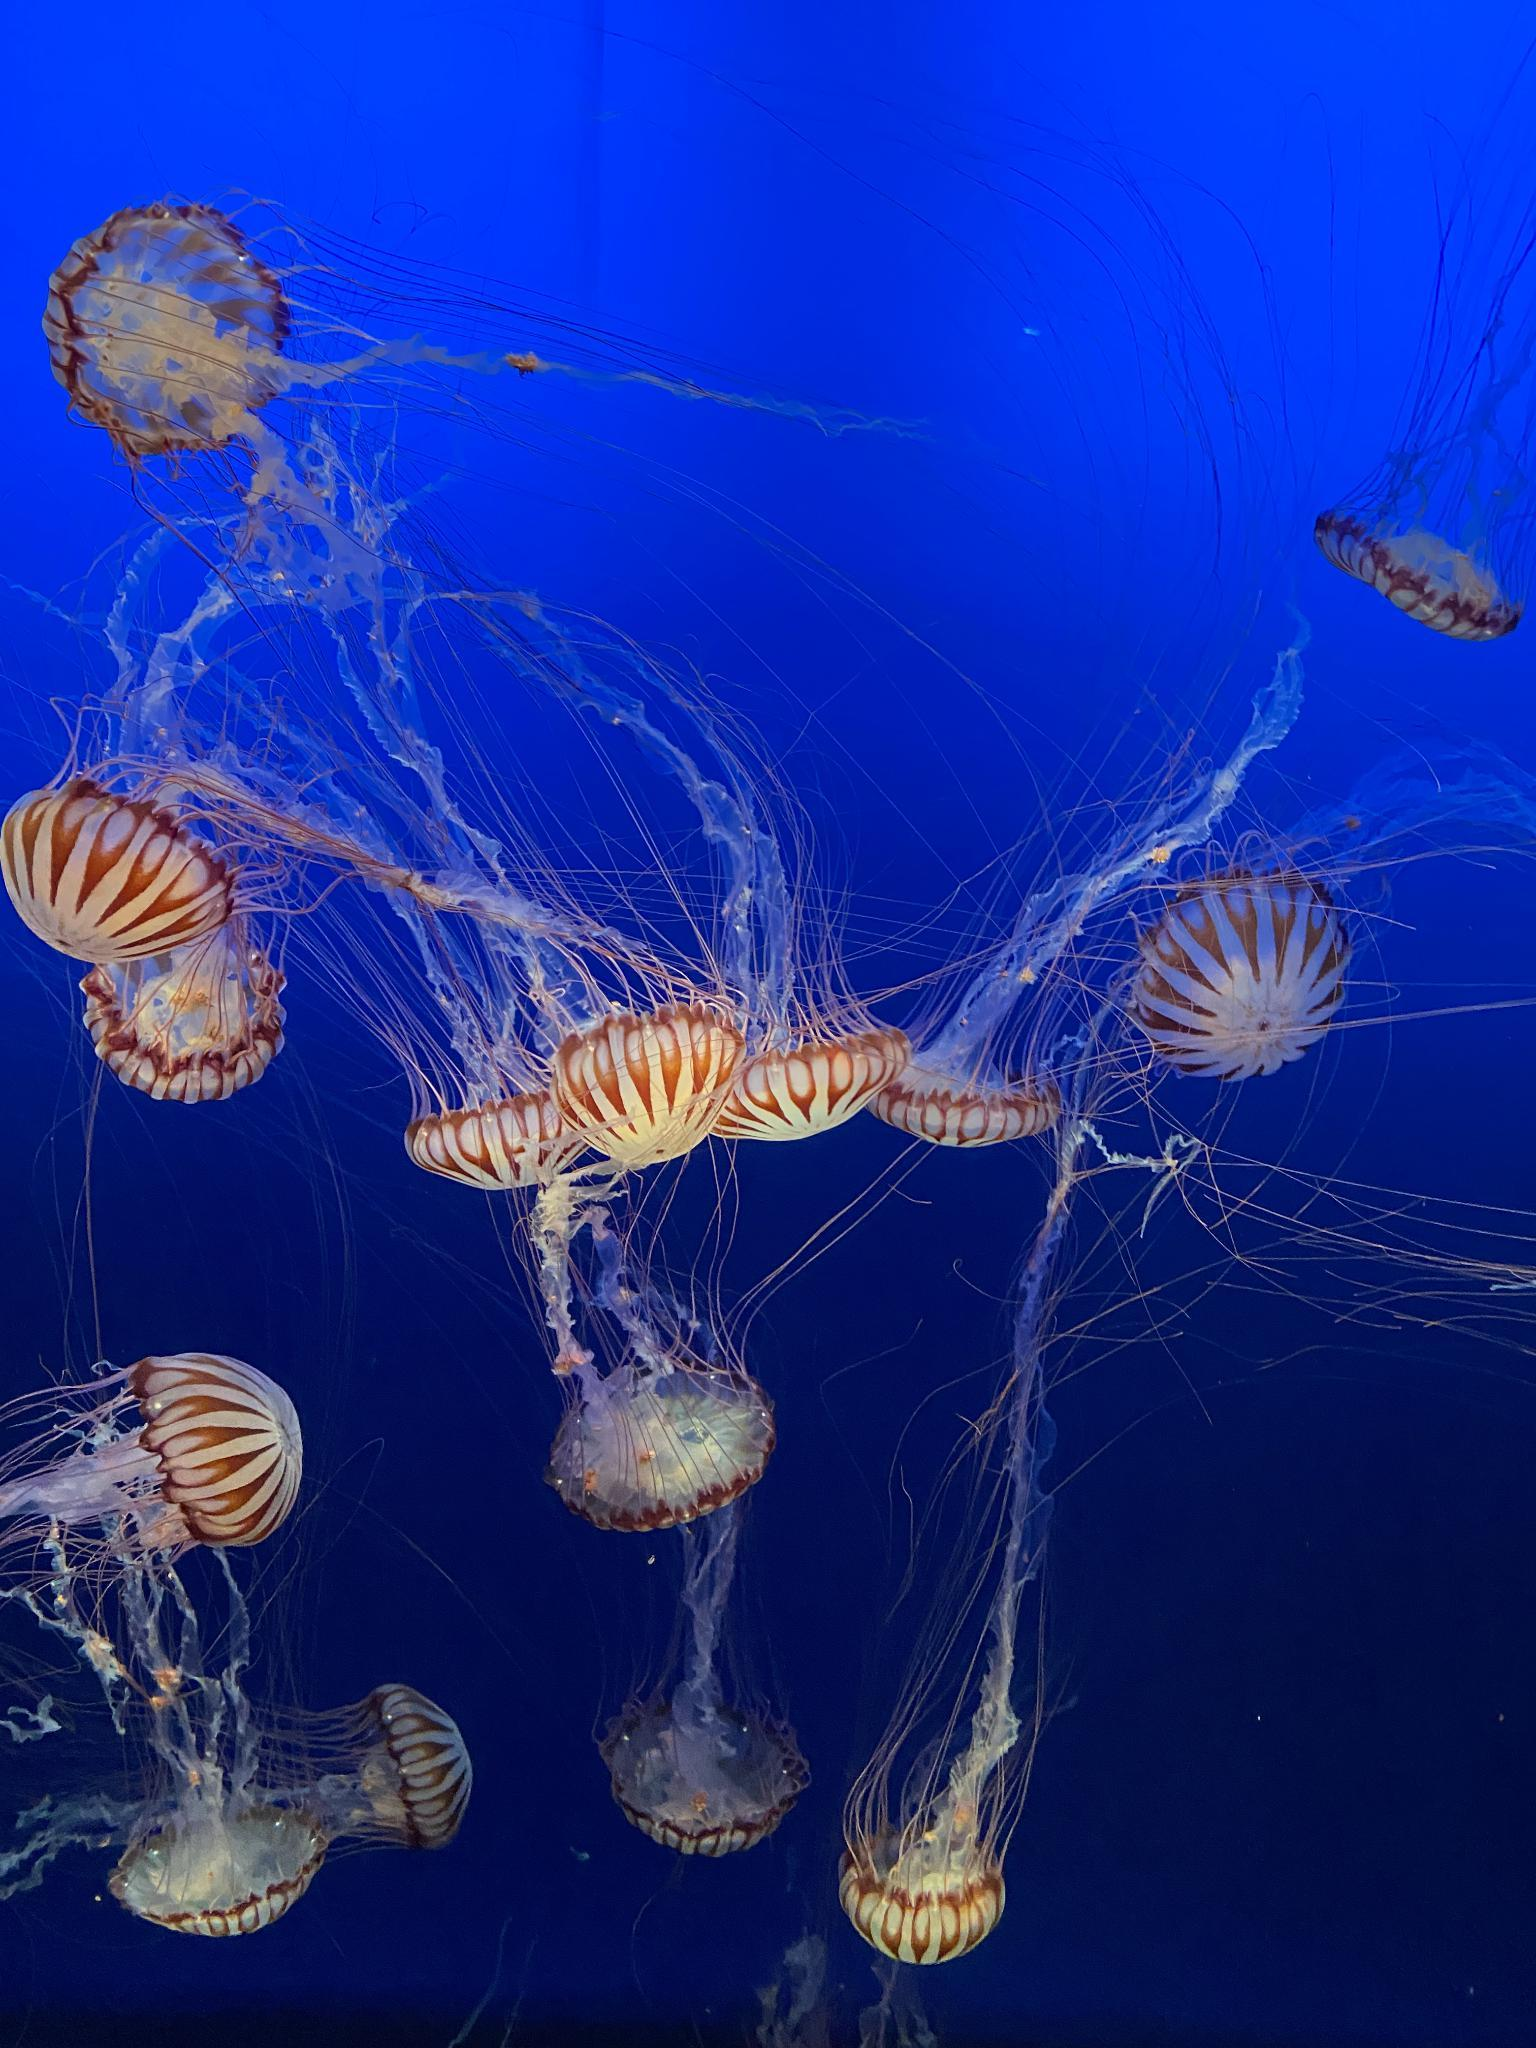jellyfish: (52, 202, 294, 452), (110, 1326, 326, 1563), (532, 1350, 783, 1529), (1128, 876, 1341, 1085), (11, 768, 232, 956), (1300, 502, 1530, 664), (74, 930, 287, 1097), (605, 1701, 812, 1850), (111, 1808, 332, 1945), (552, 1006, 736, 1171), (689, 1022, 904, 1148), (344, 1669, 478, 1846), (839, 1834, 1007, 1971), (386, 1085, 587, 1190), (876, 1059, 1055, 1153)
